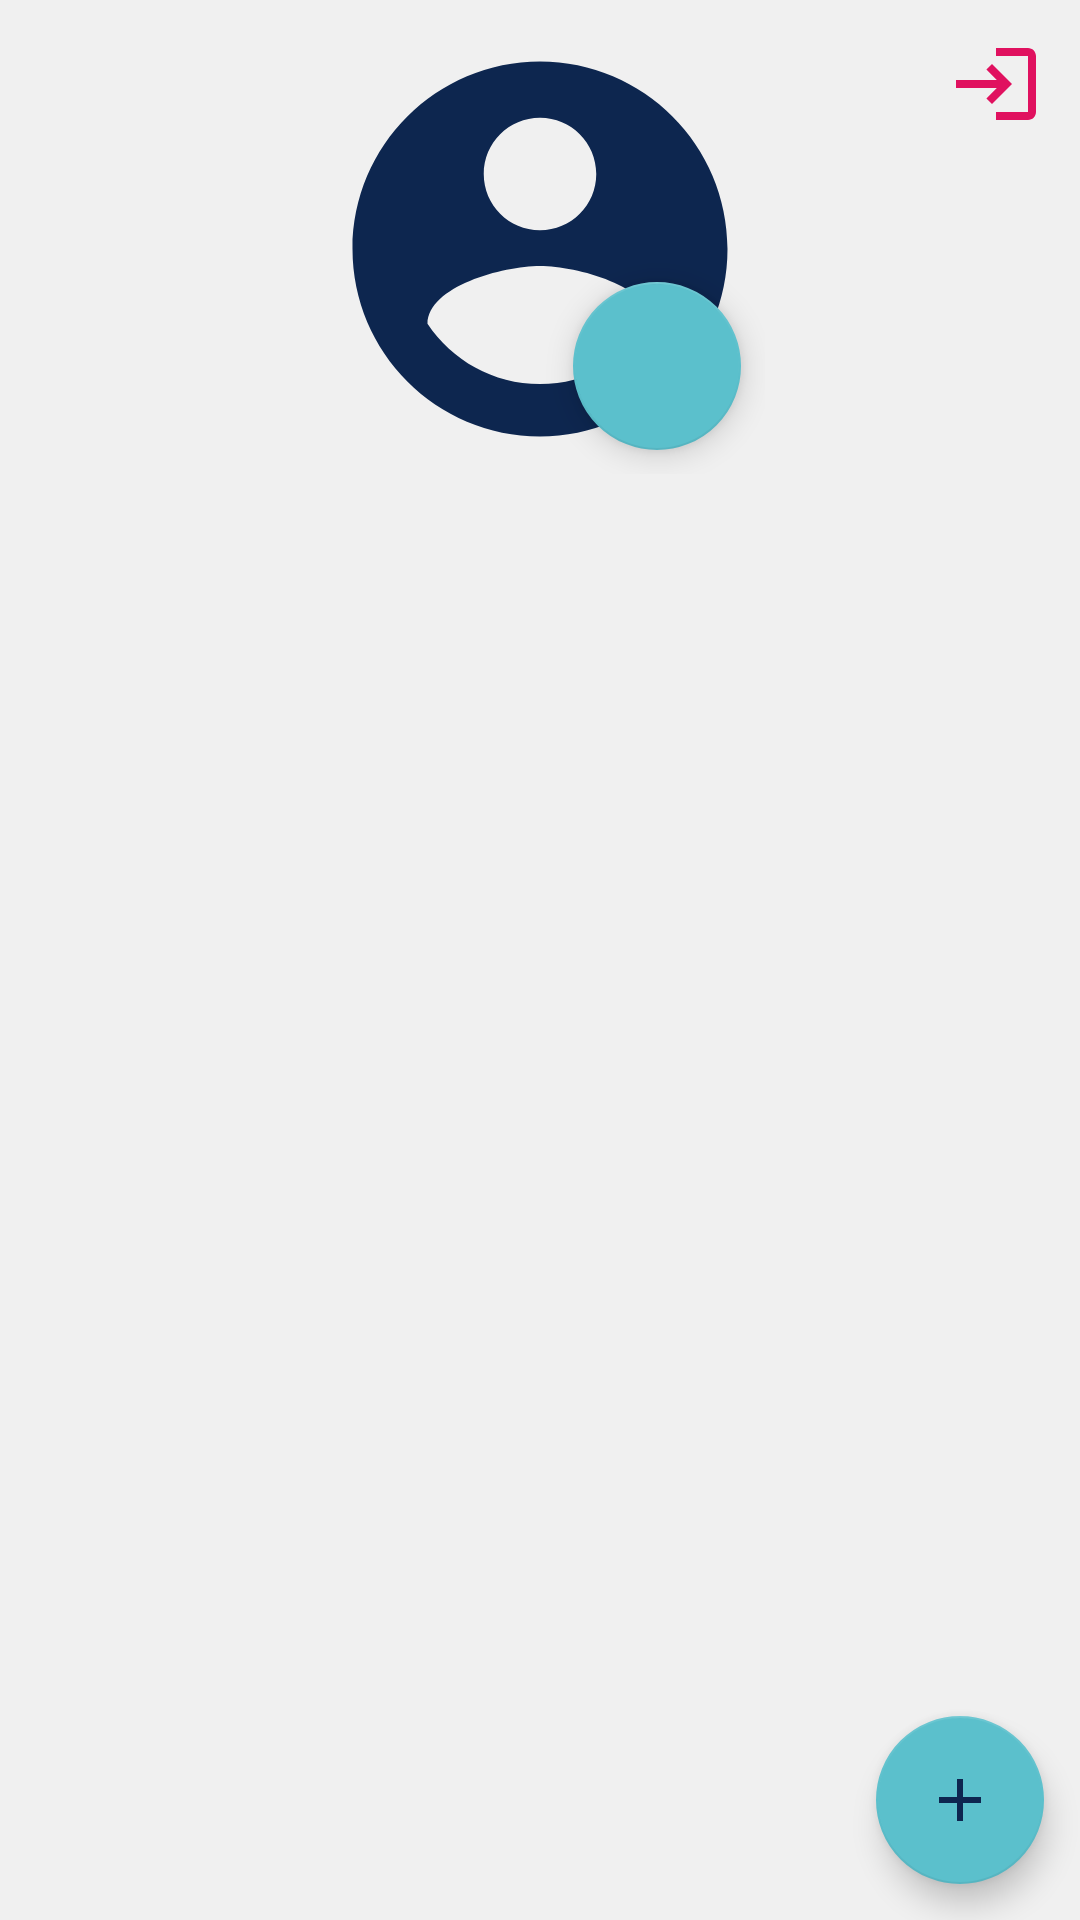

Icon bounding boxes for this 1080 × 1920 phone screenshot, format bbox=(x1, y1, x2, y2):
add: bbox=(876, 1716, 1044, 1884)
